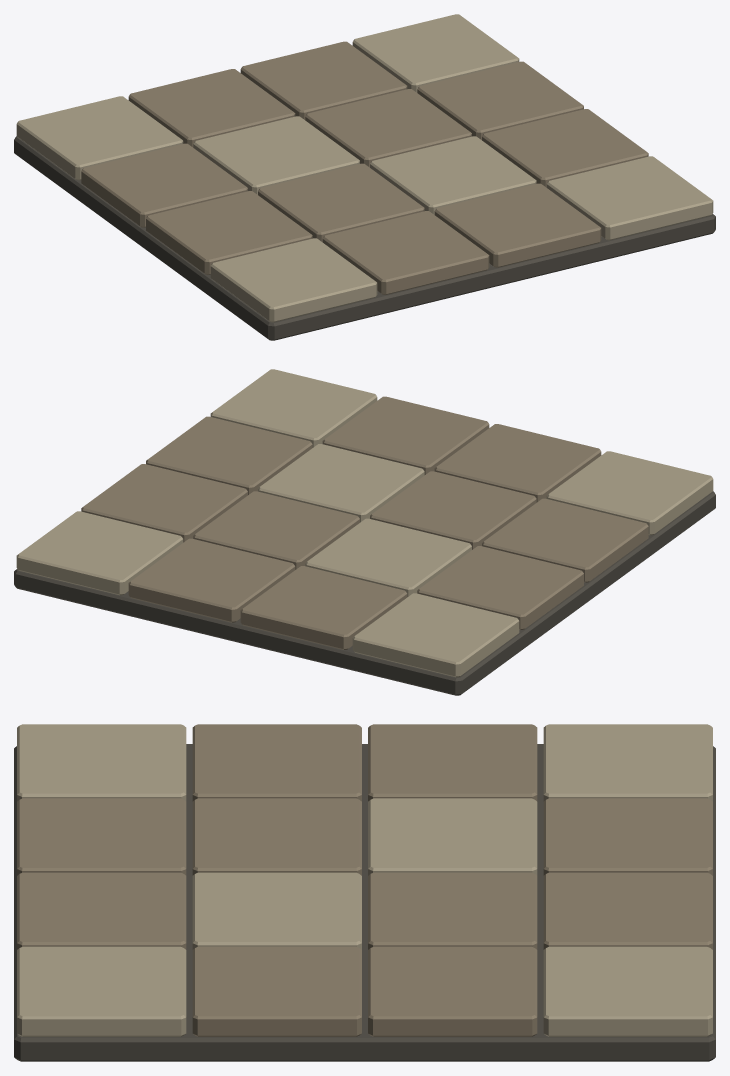
File: floor-worn.glb
The picture shows the model from 3 angles, top to bottom: view 1: azimuth 30°, elevation 25°; view 2: azimuth 150°, elevation 25°; view 3: azimuth 270°, elevation 25°; orthographic projection. The views are drawn at different scales.
Parts seen in each view (by area): view 1: floor-worn__body; view 2: floor-worn__body; view 3: floor-worn__body.
Boxes of the visible parts, x1,y1,x2,y2 form: floor-worn__body: (14,14,715,340); floor-worn__body: (14,369,715,695); floor-worn__body: (14,724,715,1061).
Size of the model in its own units: 2 by 0.14 by 2.
